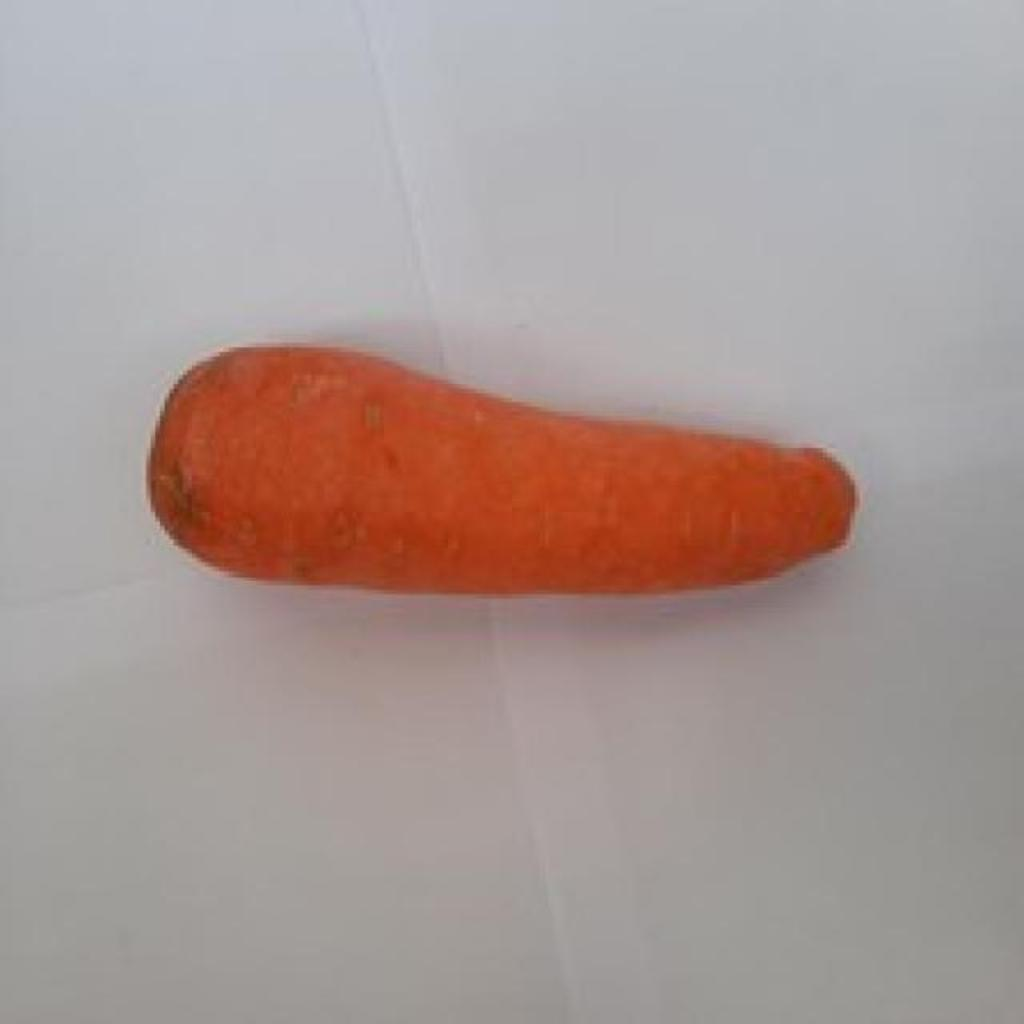carrot: (150, 348, 856, 593)
